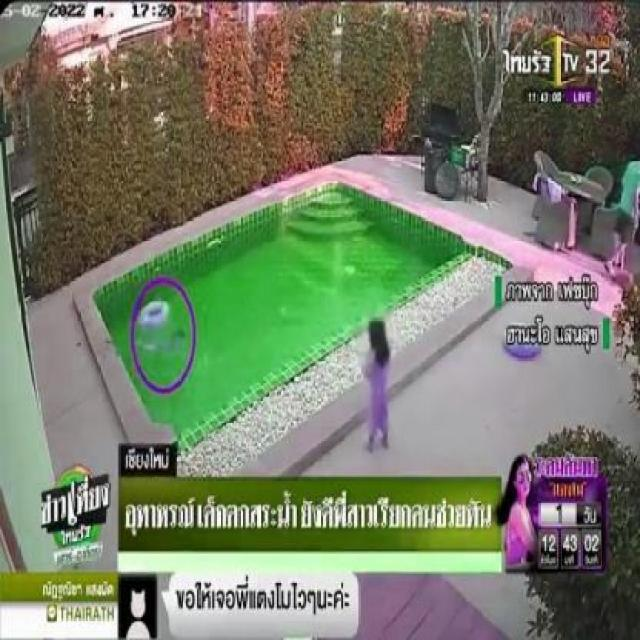drowning: (135, 332, 191, 350)
